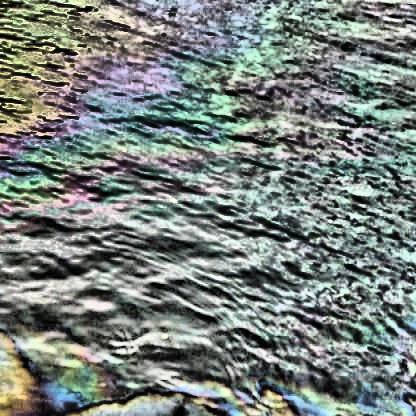rainbow: (14, 28, 407, 416)
